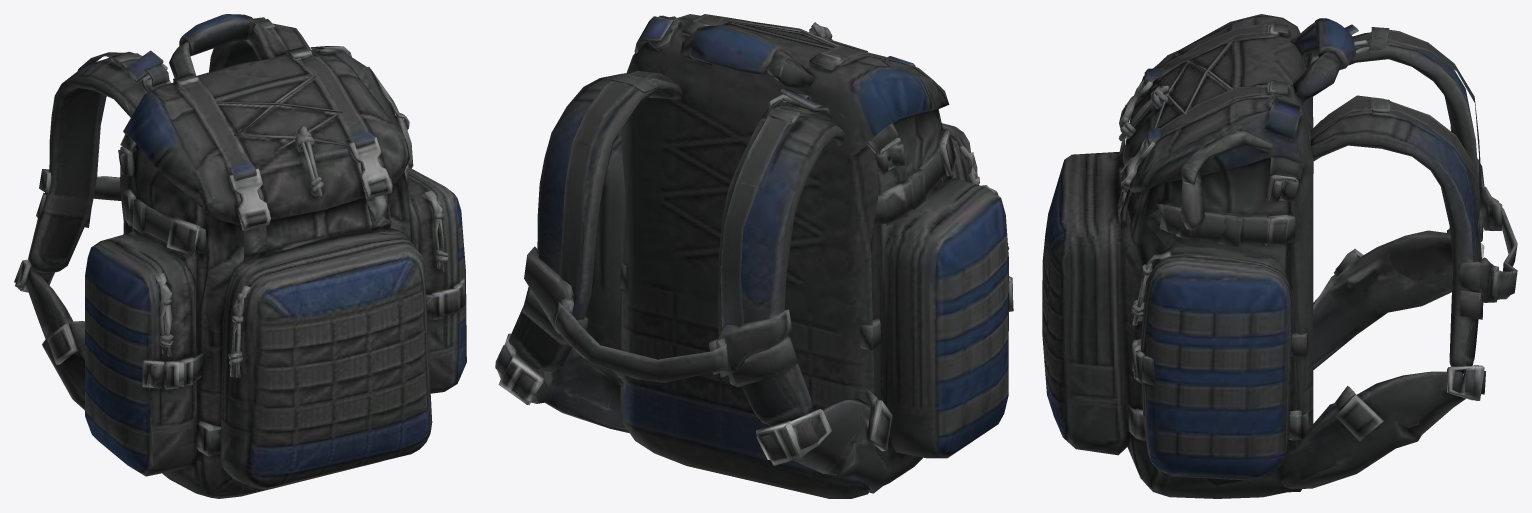
Rendered from g_backpack_black.glb.
The picture shows the model from 3 angles, left to right: view 1: azimuth 30°, elevation 25°; view 2: azimuth 150°, elevation 25°; view 3: azimuth 270°, elevation 25°; orthographic projection. The views are drawn at different scales.
Size of the model in its own units: 0.8306 by 0.9507 by 0.9502.
Materials: 1 (1 with a texture image).
